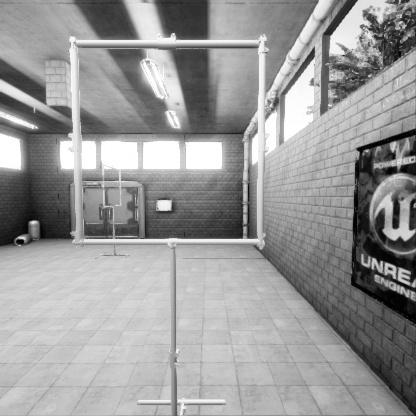gate: (70, 177, 285, 390), (102, 209, 121, 253)
